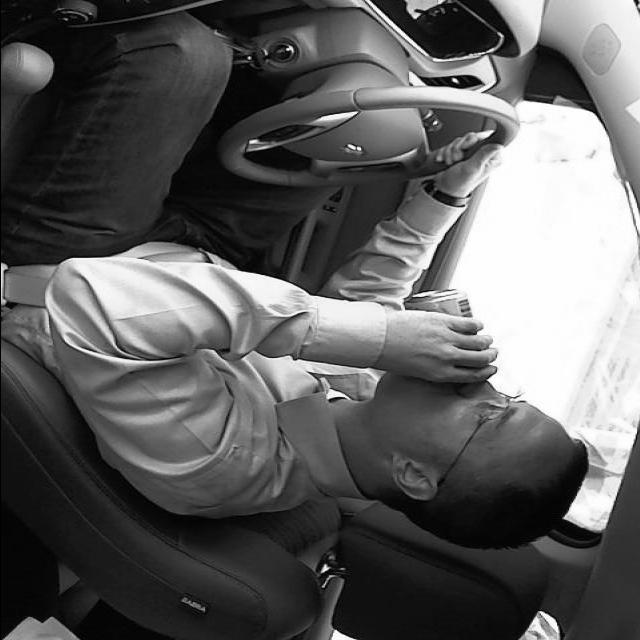drinking: (400, 286, 496, 380)
